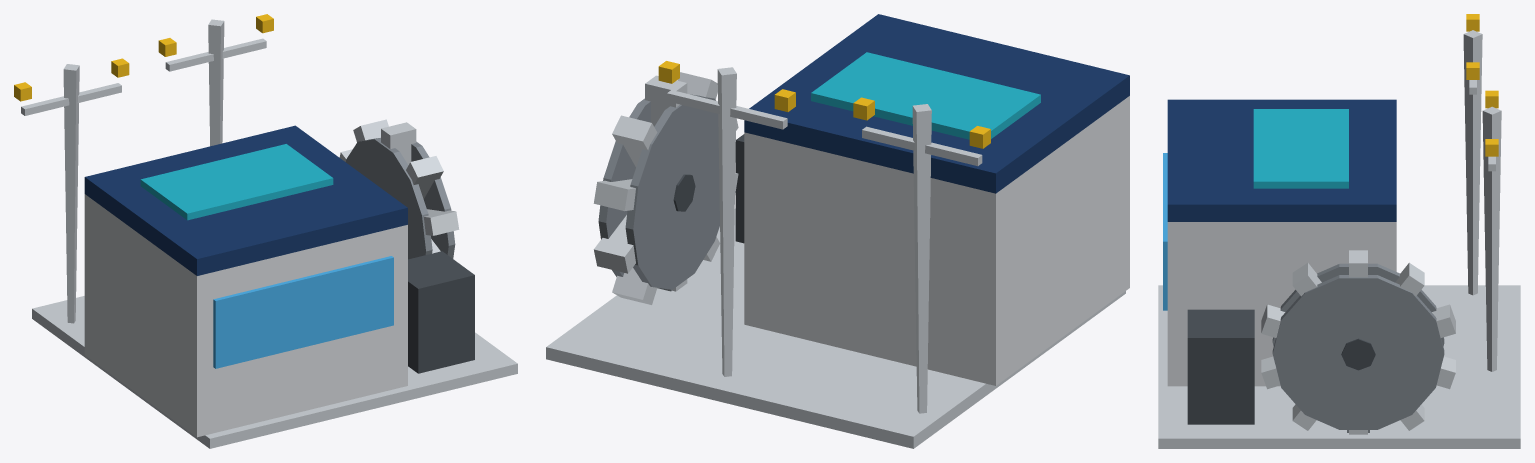
Rendered from waterwheel_3.glb.
The picture shows the model from 3 angles, left to right: view 1: azimuth 30°, elevation 25°; view 2: azimuth 150°, elevation 25°; view 3: azimuth 270°, elevation 25°; orthographic projection. The views are drawn at different scales.
Parts seen in each view (by area): view 1: cinza_claro.003, azul_marinho.004, pedra_clara.004, vidro_azul.004, petroleo.001, lixo.002, wheel_roda_metal.002, wheel_pedra_clara.001, amarelo.002; view 2: cinza_claro.003, pedra_clara.004, azul_marinho.004, wheel_roda_metal.002, petroleo.001, wheel_pedra_clara.001, amarelo.002, lixo.002, wheel_metal.003; view 3: pedra_clara.004, wheel_roda_metal.002, azul_marinho.004, cinza_claro.003, lixo.002, petroleo.001, wheel_pedra_clara.001, amarelo.002, wheel_metal.003, vidro_azul.004.
Boxes of the visible parts, bbox=[...] form: cinza_claro.003: bbox=[84, 194, 407, 437]; azul_marinho.004: bbox=[84, 125, 407, 275]; pedra_clara.004: bbox=[21, 19, 517, 448]; vidro_azul.004: bbox=[213, 256, 393, 368]; petroleo.001: bbox=[140, 144, 333, 220]; lixo.002: bbox=[408, 251, 474, 373]; wheel_roda_metal.002: bbox=[345, 138, 455, 259]; wheel_pedra_clara.001: bbox=[339, 119, 459, 253]; amarelo.002: bbox=[14, 14, 273, 101]; cinza_claro.003: bbox=[744, 96, 1129, 385]; pedra_clara.004: bbox=[546, 67, 1125, 448]; azul_marinho.004: bbox=[744, 14, 1129, 193]; wheel_roda_metal.002: bbox=[598, 94, 719, 289]; petroleo.001: bbox=[811, 52, 1040, 139]; wheel_pedra_clara.001: bbox=[593, 72, 738, 304]; amarelo.002: bbox=[658, 61, 990, 148]; lixo.002: bbox=[735, 134, 744, 243]; wheel_metal.003: bbox=[673, 174, 695, 211]; pedra_clara.004: bbox=[1158, 30, 1520, 448]; wheel_roda_metal.002: bbox=[1272, 263, 1444, 429]; azul_marinho.004: bbox=[1167, 99, 1396, 221]; cinza_claro.003: bbox=[1167, 222, 1396, 386]; lixo.002: bbox=[1187, 309, 1254, 424]; petroleo.001: bbox=[1253, 109, 1348, 188]; wheel_pedra_clara.001: bbox=[1261, 250, 1455, 434]; amarelo.002: bbox=[1466, 14, 1498, 156]; wheel_metal.003: bbox=[1341, 338, 1375, 370]; vidro_azul.004: bbox=[1163, 153, 1167, 310].
Bounding box in the file's own units: 2.13 × 1.56 × 1.9.
